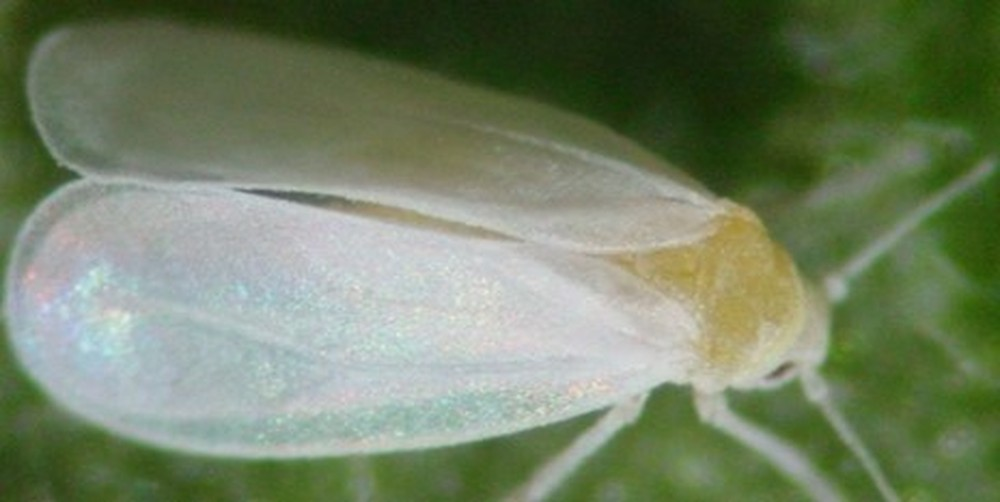Mosca Blanca: (18, 11, 984, 502)
